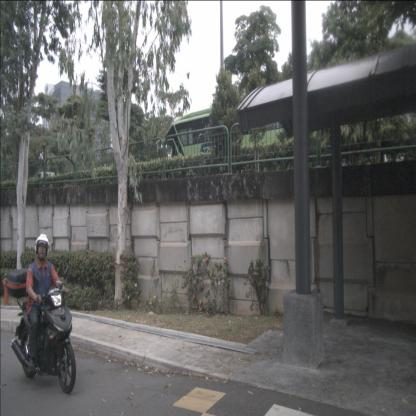vehicle-bus-rigid: (164, 90, 327, 183)
vehicle-motorcycle: (5, 233, 76, 394)
